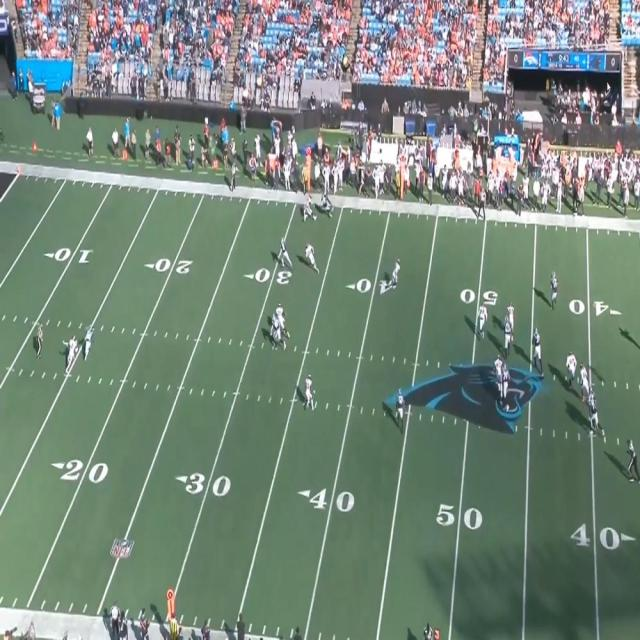db: (305, 242, 318, 272), (304, 375, 314, 412), (67, 339, 76, 372), (303, 196, 313, 222), (278, 304, 285, 338)
lb: (392, 261, 402, 291)
qb: (551, 271, 559, 306)
skill: (271, 316, 283, 348), (395, 388, 404, 424), (280, 240, 290, 271), (321, 191, 332, 217), (86, 326, 94, 356)
